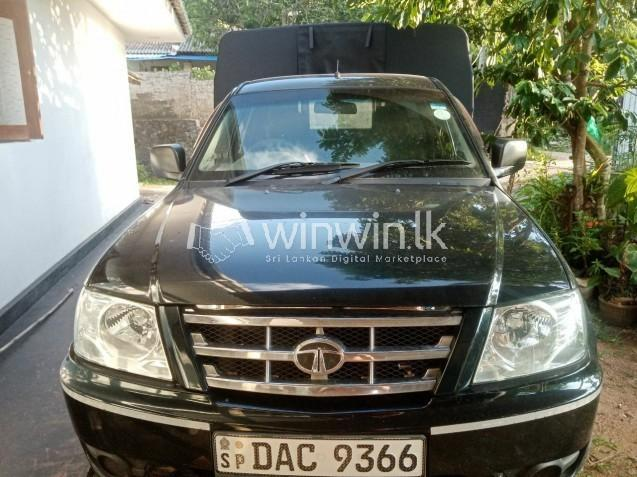truck: (57, 20, 604, 477)
